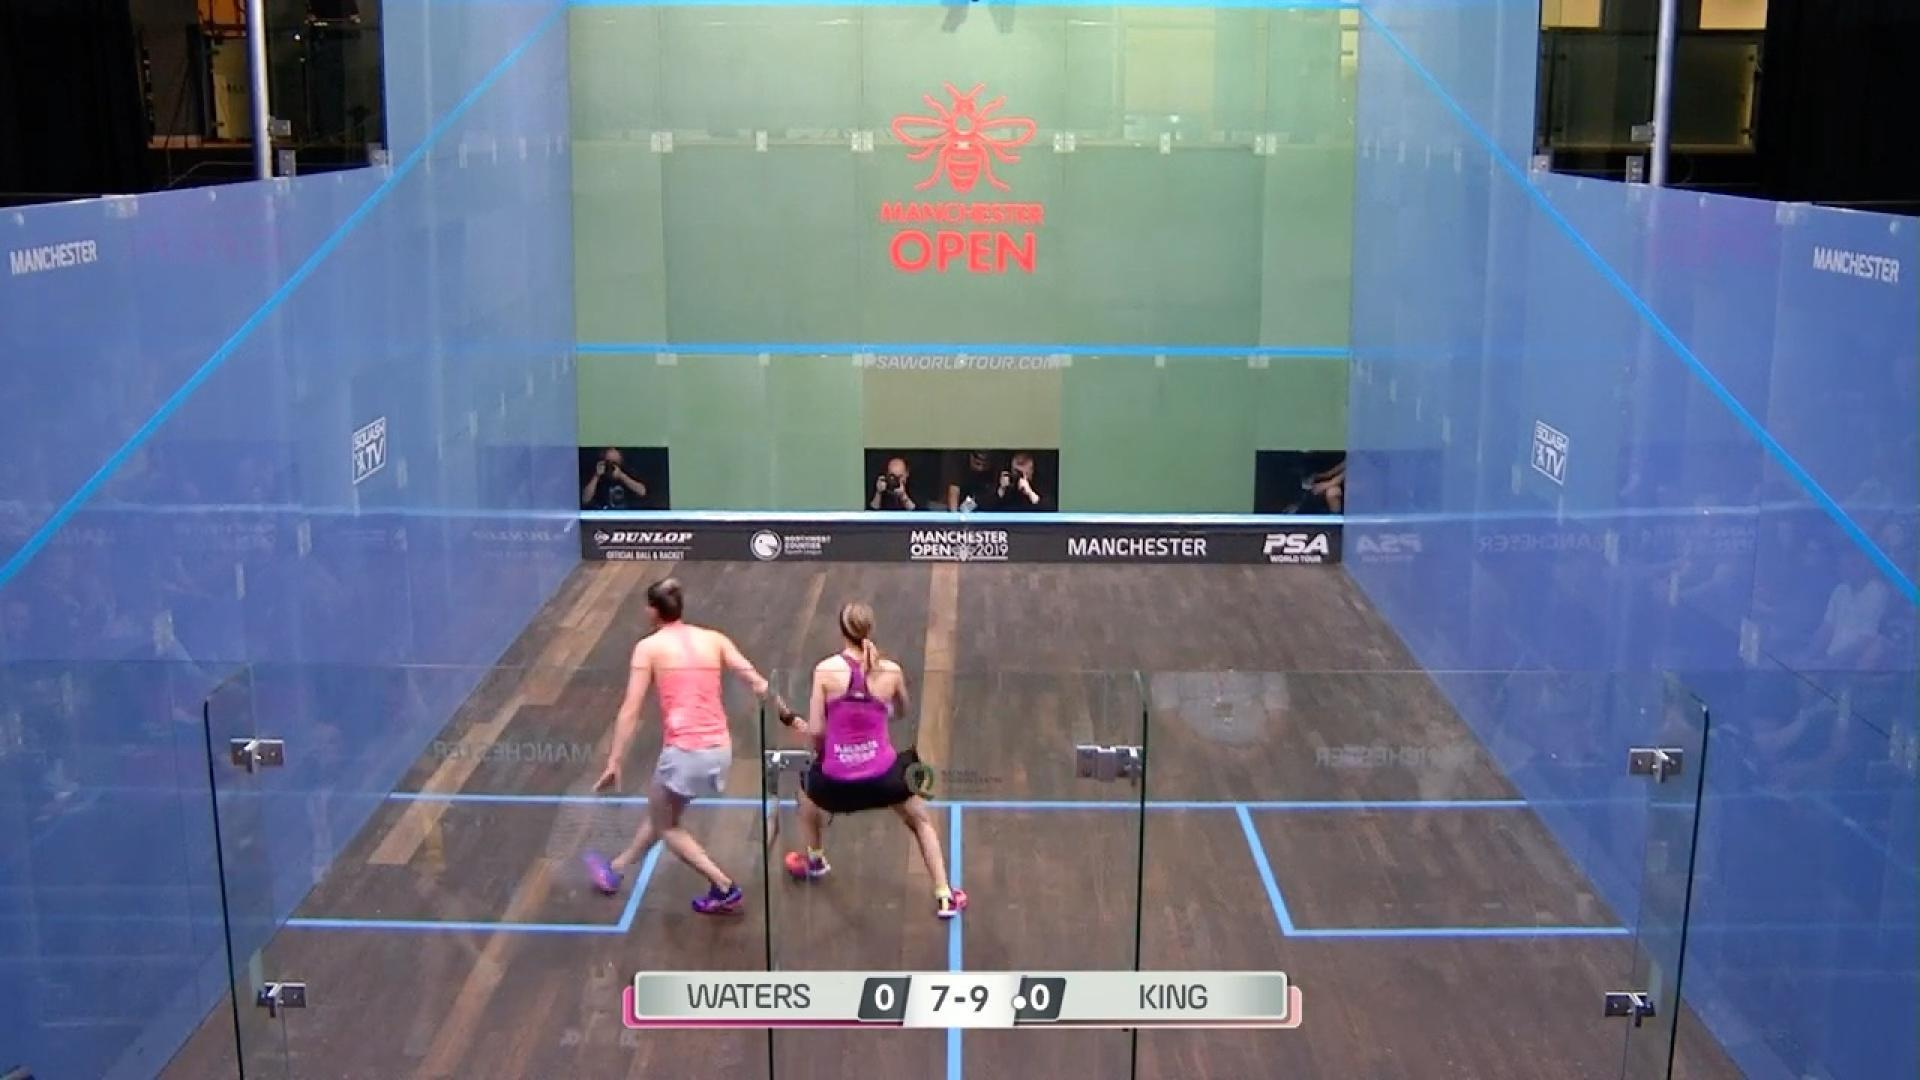Squash-Ball: (547, 505, 597, 547)
